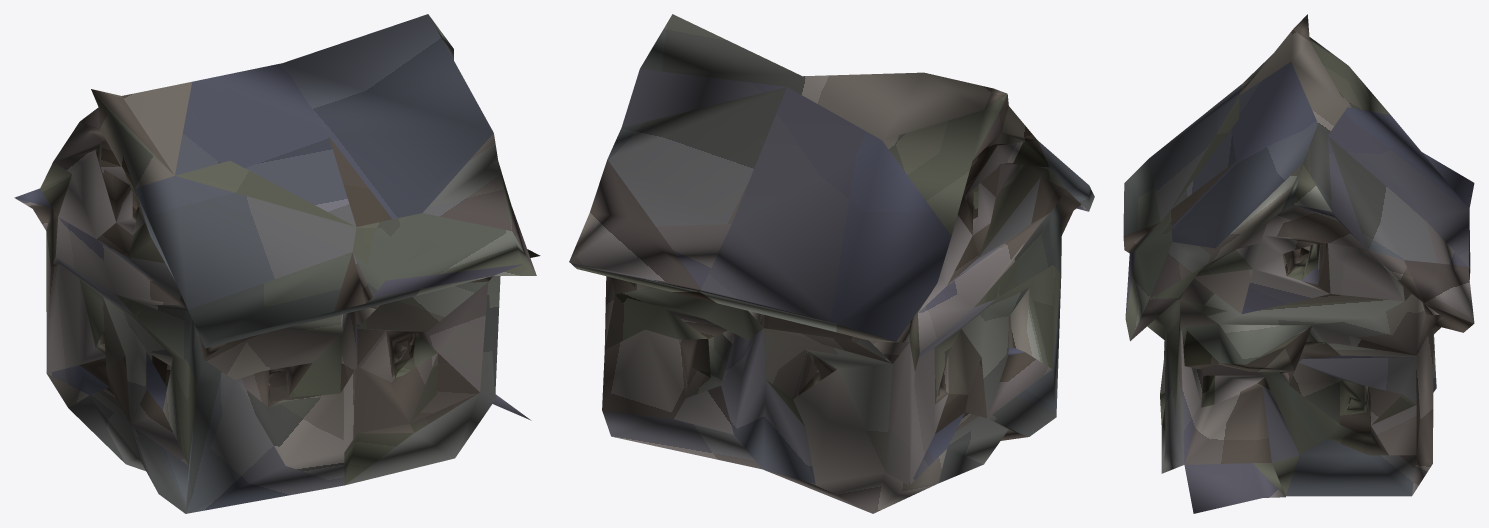
File: house_generic_b_lo.glb
3 renders of one model, left to right at view 1: azimuth 30°, elevation 25°; view 2: azimuth 150°, elevation 25°; view 3: azimuth 270°, elevation 25°, orthographic. The views are drawn at different scales.
Parts seen in each view (by area): view 1: tripo_node_ec88c3ae-fc66-42d7-b53e-eef88047a0cc; view 2: tripo_node_ec88c3ae-fc66-42d7-b53e-eef88047a0cc; view 3: tripo_node_ec88c3ae-fc66-42d7-b53e-eef88047a0cc.
Boxes of the visible parts, x1=… form: tripo_node_ec88c3ae-fc66-42d7-b53e-eef88047a0cc: x1=14, y1=14, x2=540, y2=513; tripo_node_ec88c3ae-fc66-42d7-b53e-eef88047a0cc: x1=569, y1=14, x2=1094, y2=513; tripo_node_ec88c3ae-fc66-42d7-b53e-eef88047a0cc: x1=1123, y1=14, x2=1474, y2=513.
Bounding box in the file's own units: 0.976 × 0.9208 × 0.8688.
Materials: 1 (1 with a texture image).
